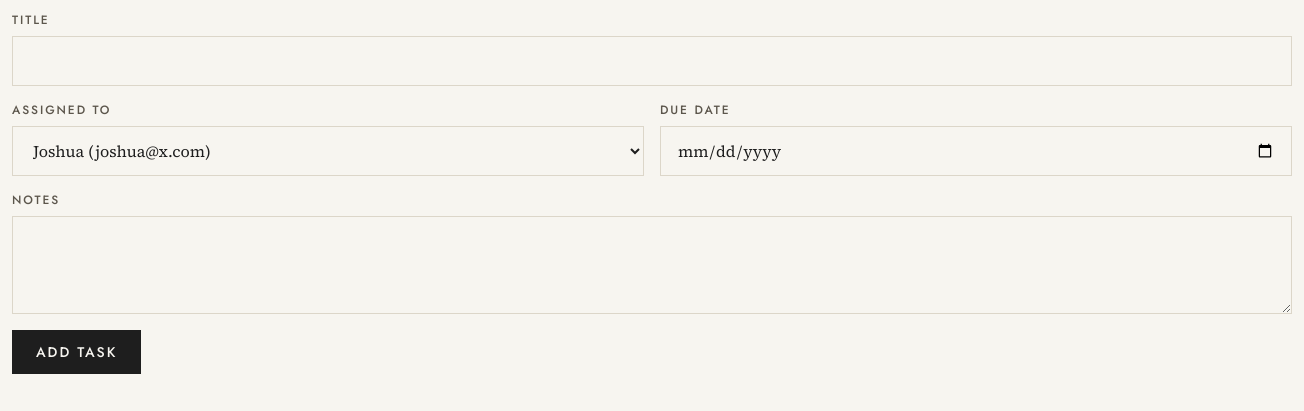
Test: TaskForm › shows an error and keeps what was typed
Type "Flyers" into the field labelled "Title".
click(652, 61); type("Flyers")  # box [12,36,1292,86]
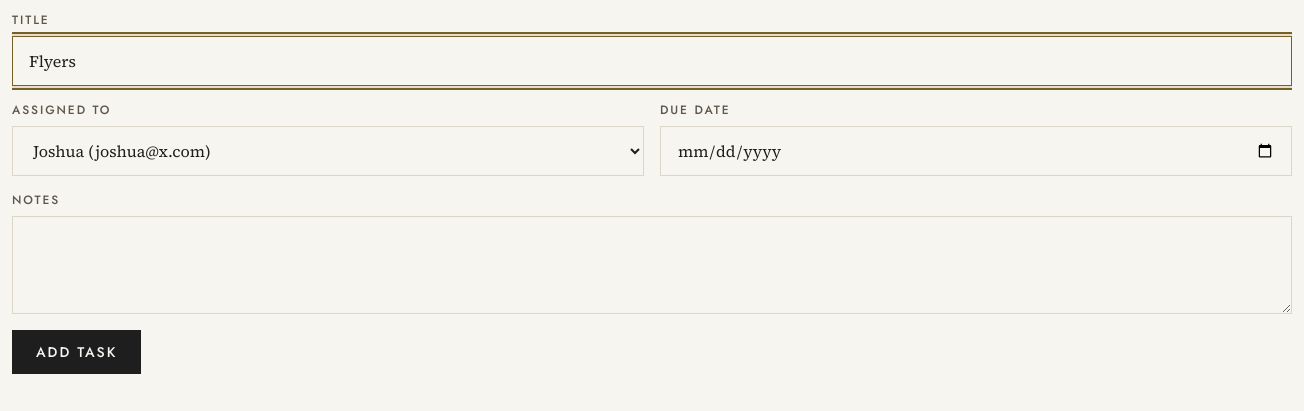
Click the button "Add task".
click(77, 352)  # box [12,330,141,374]
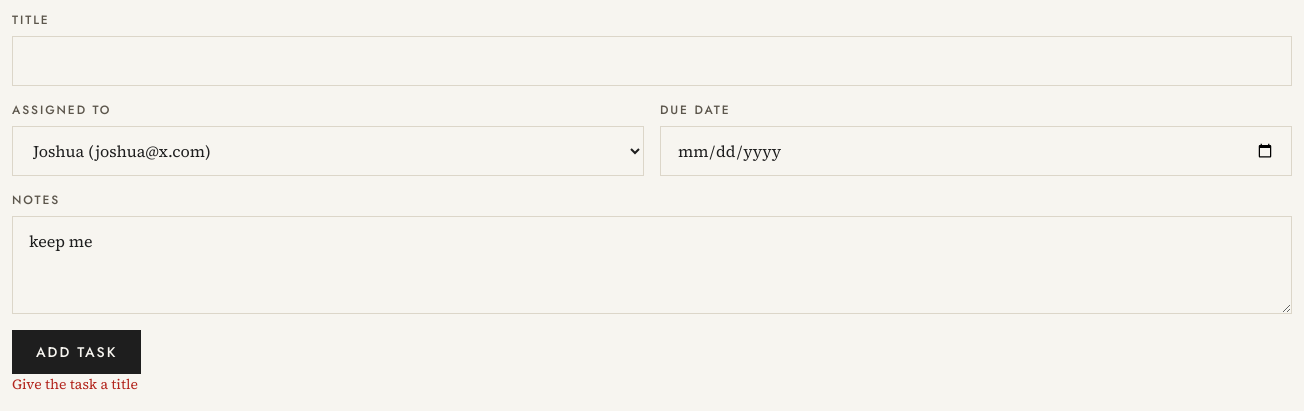
expect the message reads "Give the task a title": met, box [12,374,138,394]
expect the text box labelled "Notes" holds "keep me": met, box [12,216,1292,314]
